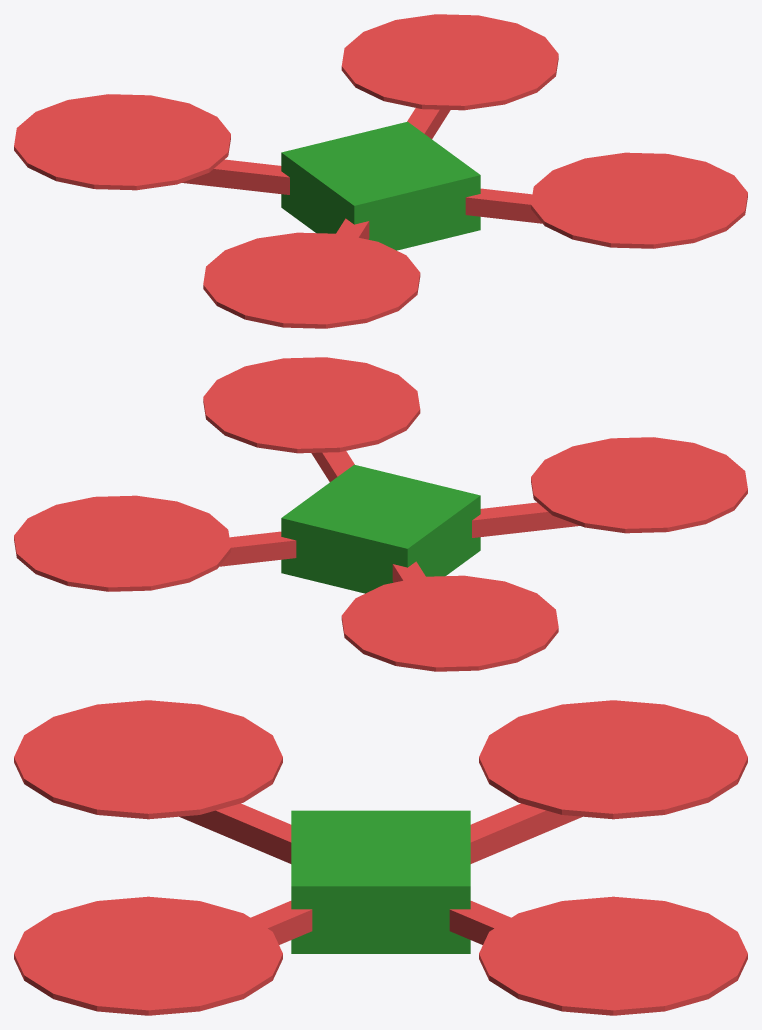
Rendered from quad_2.glb.
3 views of the same model, one above another, from view 1: azimuth 30°, elevation 25°; view 2: azimuth 150°, elevation 25°; view 3: azimuth 270°, elevation 25° (orthographic). The views are drawn at different scales.
Bounding box in the file's own units: 2.46 × 0.25 × 2.46.
